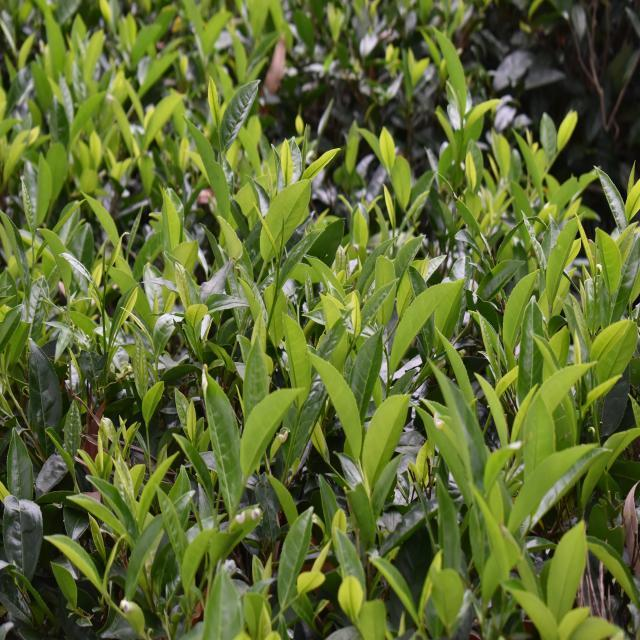Stem: (271, 296, 278, 311), (110, 601, 117, 609)
